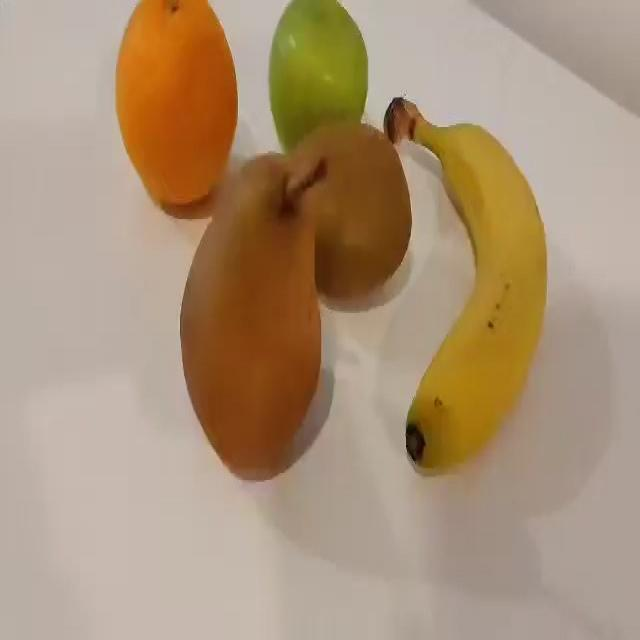Apple: (267, 0, 368, 153)
Banana: (382, 95, 548, 475)
Orange: (114, 0, 238, 209)
